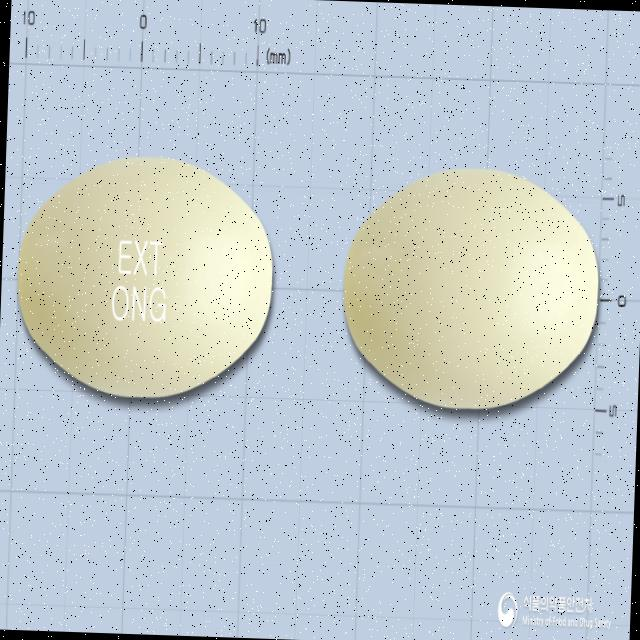Clari - 500mg: (14, 148, 278, 407), (340, 161, 604, 415)
